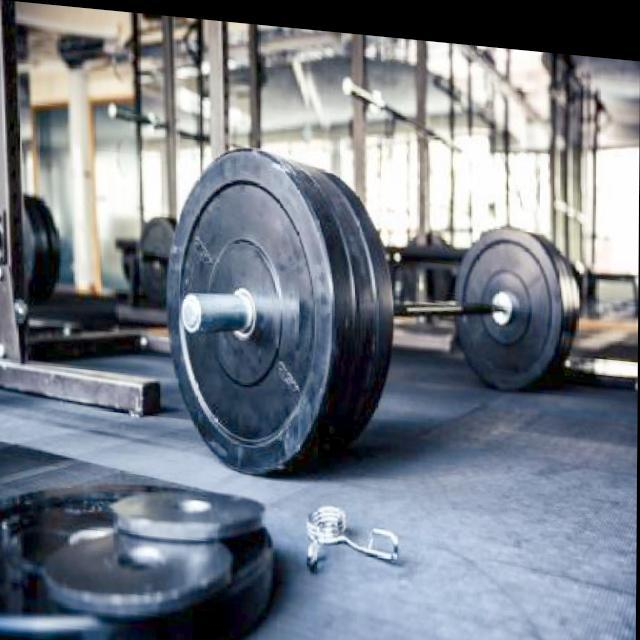barbell: (162, 131, 338, 484)
